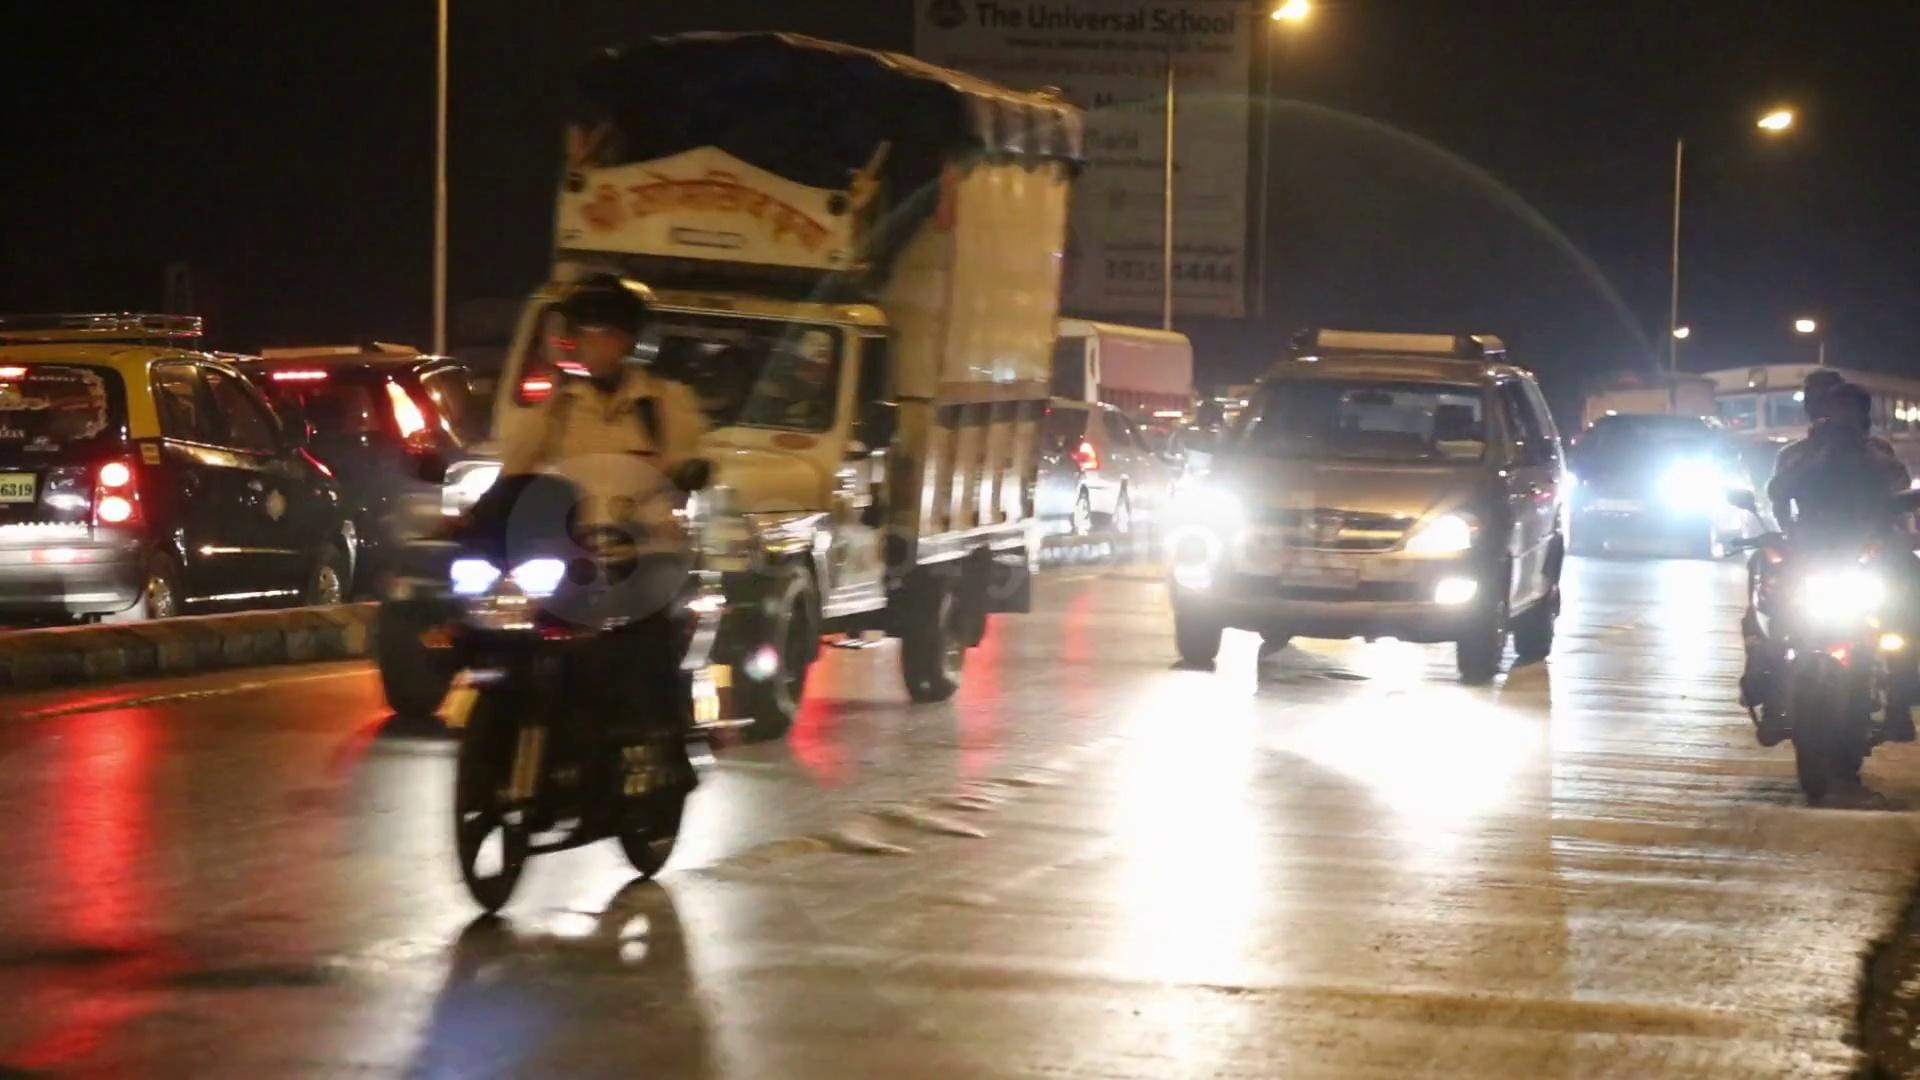rider: (455, 271, 719, 841), (1741, 366, 1920, 810)
with_helmate: (541, 276, 663, 377)
without_helmate: (1813, 383, 1893, 457)
